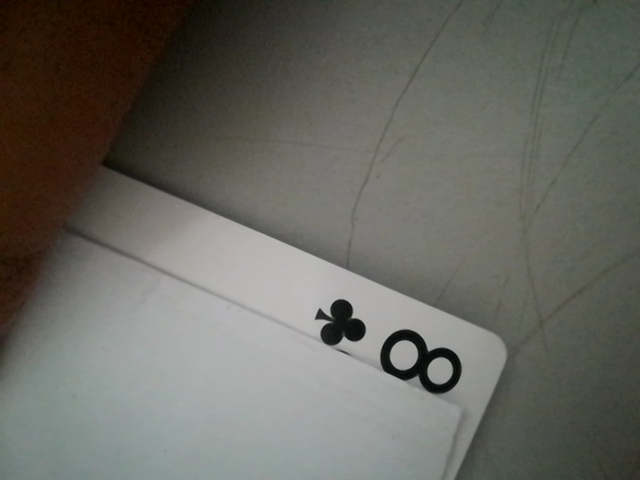mh 8: (301, 291, 486, 406)
